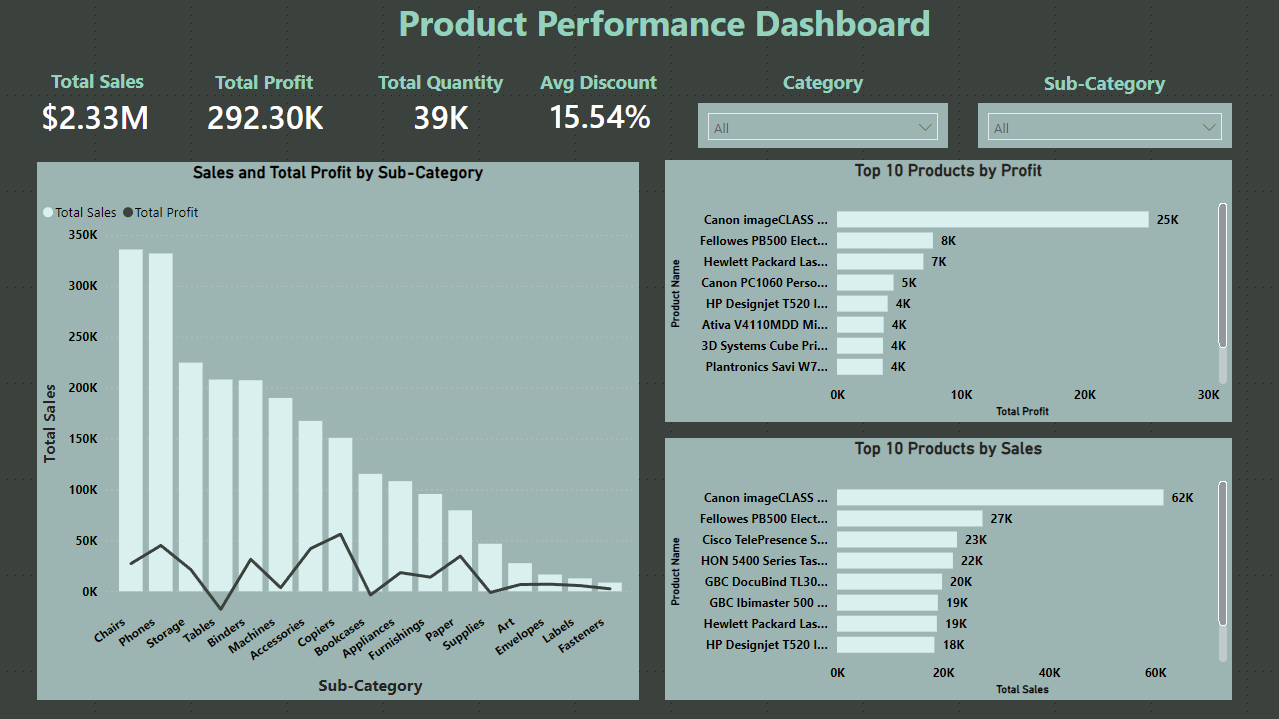

What the dashboard file says about the page in this screenshot:
{"tool":"powerbi","page":{"name":"Product Performance Dashboard","canvas":[1280,720],"ordinal":1},"visuals":[{"type":"textbox","title":"Product Performance Dashboard","box":[367.7,0,543.7,45.7],"z":0},{"type":"textbox","title":"Total Sales","box":[46.5,69.3,104.1,25.3],"z":1000},{"type":"textbox","title":"Total Profit","box":[210.8,70.3,114.8,25.3],"z":2000},{"type":"textbox","title":"Total Quantity","box":[374.1,70.3,138.6,24.7],"z":3000},{"type":"textbox","title":"Avg Discount","box":[536.4,70.3,129.6,25.7],"z":4000},{"type":"cardVisual","title":"Total Sales","fields":{"Data":["Measures (2).Total Sales"]},"box":[12.9,82.1,172.2,67.3],"z":5000},{"type":"cardVisual","title":"Total Sales","fields":{"Data":["Measures (2).Total Profit"]},"box":[179.1,84.1,177.2,63.3],"z":6000},{"type":"cardVisual","title":"Total Sales","fields":{"Data":["Measures (2).Total Quantity"]},"box":[385,83.1,116.8,64.3],"z":7000},{"type":"cardVisual","title":"Total Sales","fields":{"Data":["Measures (2).Average Discount"]},"box":[521.6,82.1,160.3,65.3],"z":8000},{"type":"clusteredBarChart","title":"Top 10 Products by Sales","fields":{"Category":["Orders.Product Name"],"Y":["Measures (2).Total Sales"]},"box":[666.1,439.4,567.1,261.6],"z":9000},{"type":"clusteredBarChart","title":"Top 10 Products by Profit","fields":{"Category":["Orders.Product Name"],"Y":["Measures (2).Total Profit"]},"box":[666.1,161.3,567.1,261.6],"z":10000},{"type":"lineClusteredColumnComboChart","title":"Sales and Total Profit by Sub-Category","fields":{"Category":["Orders.Sub-Category"],"Y":["Measures (2).Total Sales"],"Y2":["Measures (2).Total Profit"]},"box":[37.6,163.3,602.7,537.4],"z":11000},{"type":"slicer","title":"Year","fields":{"Values":["Orders.Category"]},"box":[698.7,103.9,250.4,45.5],"z":12000},{"type":"slicer","title":"Year","fields":{"Values":["Orders.Sub-Category"]},"box":[978.8,103.9,254.4,45.5],"z":13000},{"type":"textbox","title":"Category","box":[778.9,70.3,91.1,25.7],"z":14000},{"type":"textbox","title":"Sub-Category","box":[1040.2,71.3,131.6,25.7],"z":15000}]}

Visuals, with their boxes in screenshot pixels (x1, y1, x2, y2), scaled from the page's 1280x720 canvas onto the 1279x719 screenshot:
"Product Performance Dashboard" textbox: crop(367, 0, 911, 46)
"Total Sales" textbox: crop(46, 69, 150, 94)
"Total Profit" textbox: crop(211, 70, 325, 95)
"Total Quantity" textbox: crop(374, 70, 512, 95)
"Avg Discount" textbox: crop(536, 70, 665, 96)
"Total Sales" cardVisual: crop(13, 82, 185, 149)
"Total Sales" cardVisual: crop(179, 84, 356, 147)
"Total Sales" cardVisual: crop(385, 83, 501, 147)
"Total Sales" cardVisual: crop(521, 82, 681, 147)
"Top 10 Products by Sales" clusteredBarChart: crop(666, 439, 1232, 700)
"Top 10 Products by Profit" clusteredBarChart: crop(666, 161, 1232, 422)
"Sales and Total Profit by Sub-Category" lineClusteredColumnComboChart: crop(38, 163, 640, 700)
"Year" slicer: crop(698, 104, 948, 149)
"Year" slicer: crop(978, 104, 1232, 149)
"Category" textbox: crop(778, 70, 869, 96)
"Sub-Category" textbox: crop(1039, 71, 1171, 97)
